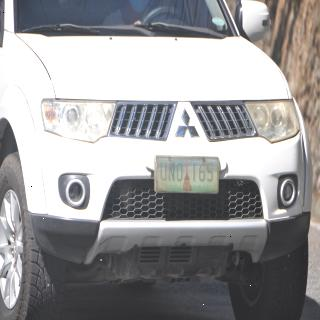license: (155, 156, 220, 195)
